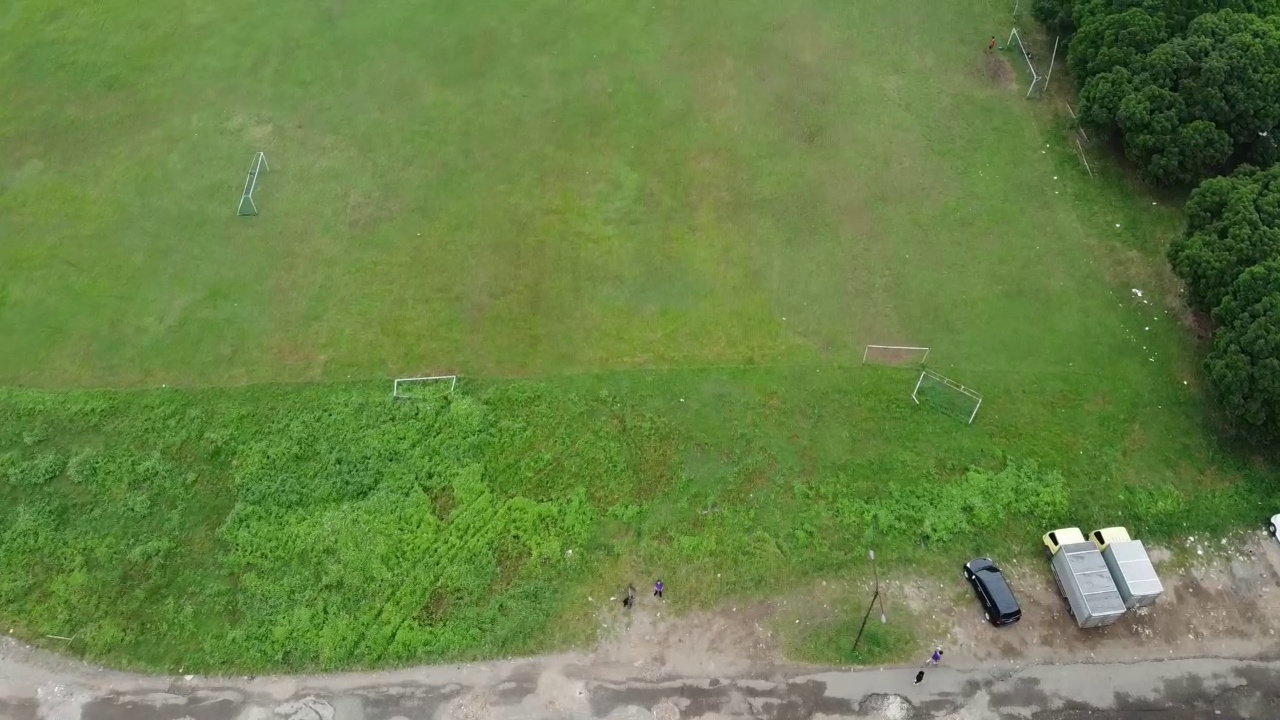mobil: (954, 552, 1030, 633)
